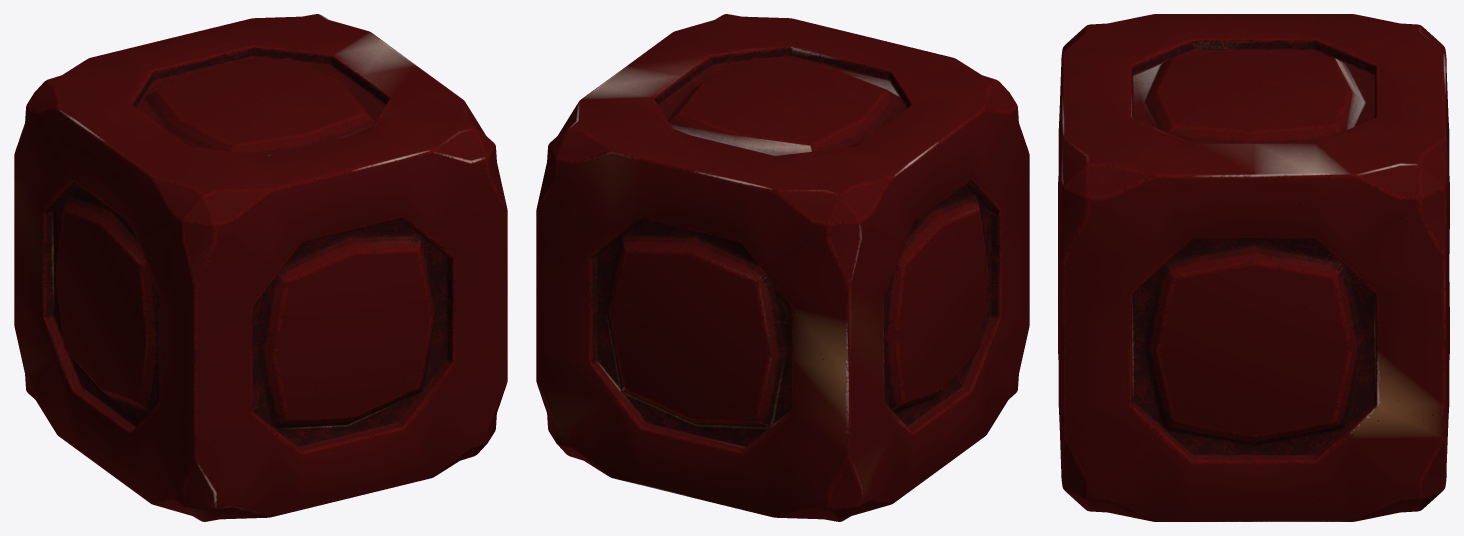
The model's file is BoxTExtured.glb.
3 views of the same model, side by side, from view 1: azimuth 30°, elevation 25°; view 2: azimuth 150°, elevation 25°; view 3: azimuth 270°, elevation 25° (orthographic). The views are drawn at different scales.
Parts seen in each view (by area): view 1: Cube; view 2: Cube; view 3: Cube.
Part boxes in pixels (<box>): Cube: <box>14,14,507,521</box>; Cube: <box>536,14,1029,521</box>; Cube: <box>1058,14,1449,521</box>.
Bounding box in the file's own units: 1.07 × 1.07 × 1.07.
Materials: 1 (1 with a texture image).
